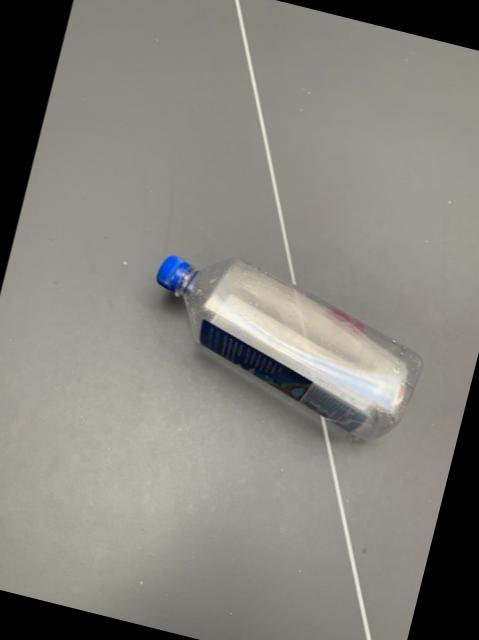plastic: (158, 254, 423, 437)
